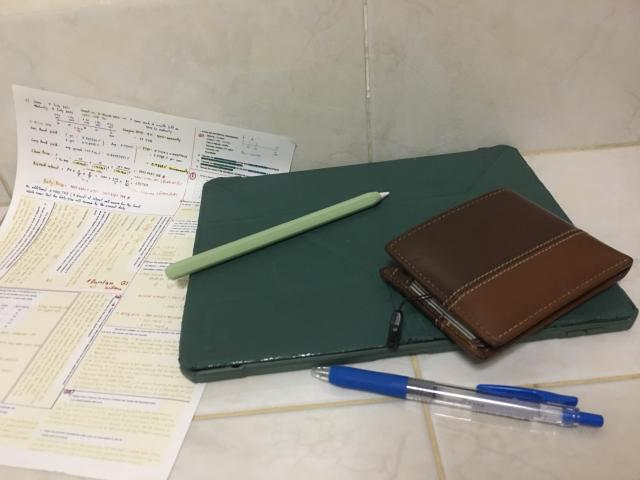Pen: (311, 366, 604, 428)
Wallet: (380, 189, 632, 359)
paper: (0, 85, 295, 479)
